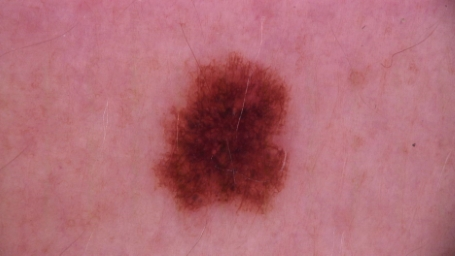melanoma: (157, 56, 291, 210)
